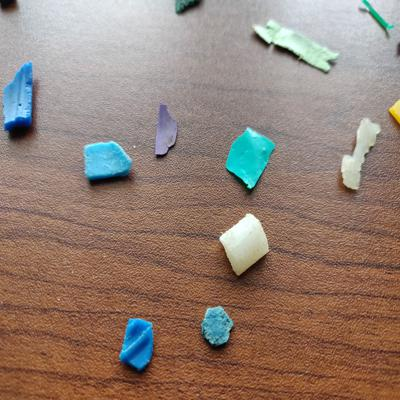plastic: (248, 12, 340, 76), (219, 123, 281, 193), (336, 113, 385, 193), (217, 212, 274, 278), (1, 59, 37, 136), (117, 313, 161, 375), (79, 136, 135, 183), (199, 301, 236, 352), (152, 101, 179, 161), (360, 1, 395, 34)
